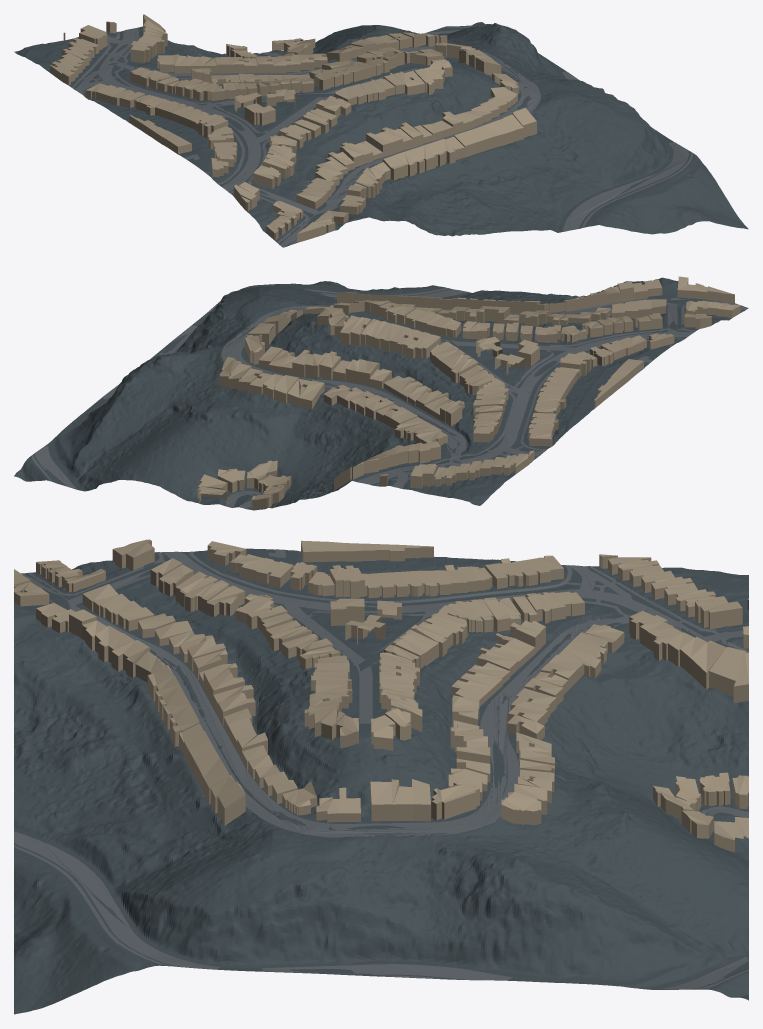
The model's file is epsg26910-1429-10877.lod0.glb.
3 renders of one model, top to bottom at view 1: azimuth 30°, elevation 25°; view 2: azimuth 150°, elevation 25°; view 3: azimuth 270°, elevation 25°, orthographic. The views are drawn at different scales.
Parts seen in each view (by area): view 1: epsg26910-1429-10877-lod0; view 2: epsg26910-1429-10877-lod0; view 3: epsg26910-1429-10877-lod0.
Boxes of the visible parts, x1=… form: epsg26910-1429-10877-lod0: x1=14, y1=14, x2=748, y2=247; epsg26910-1429-10877-lod0: x1=14, y1=276, x2=748, y2=510; epsg26910-1429-10877-lod0: x1=14, y1=539, x2=748, y2=1014.
Bounding box in the file's own units: 384 × 99.18 × 384.
